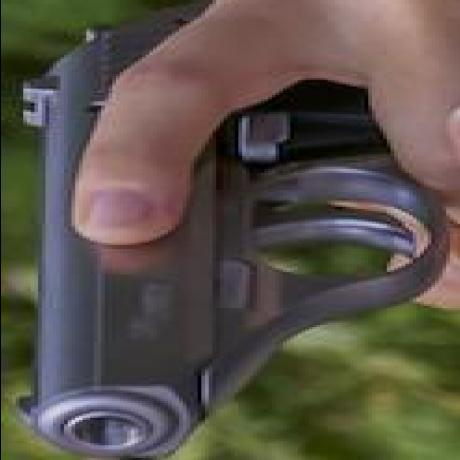weapon: (15, 0, 417, 457)
